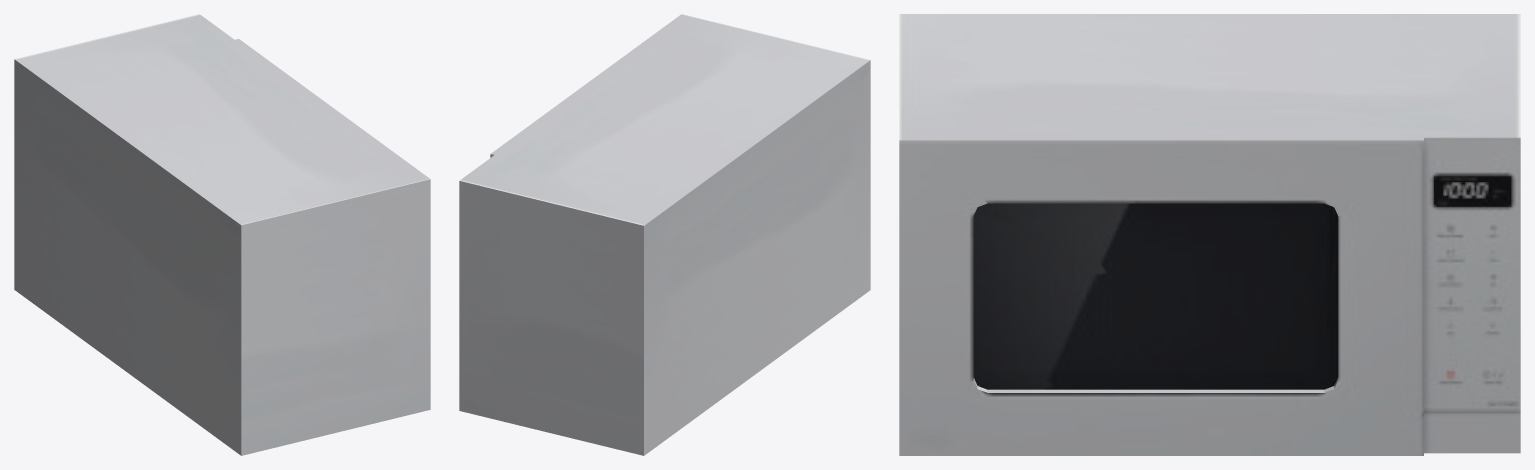
Rendered from microwave.fbx.
3 renders of one model, left to right at view 1: azimuth 30°, elevation 25°; view 2: azimuth 150°, elevation 25°; view 3: azimuth 270°, elevation 25°, orthographic. The views are drawn at different scales.
Visible parts, largest first — view 1: microwave; view 2: microwave; view 3: microwave.
Boxes of the visible parts, x1,y1,x2,y2 form: microwave: (14,14,430,455); microwave: (459,14,870,455); microwave: (899,14,1520,455).
Bounding box in the file's own units: 42.69 × 49.7 × 88.67.
